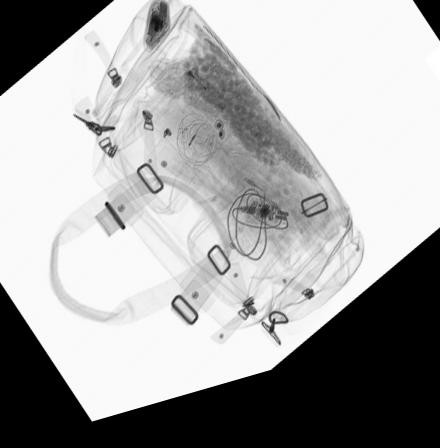Lighter: (185, 73, 231, 127)
